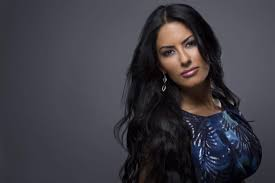white_female: (160, 10, 215, 93)
